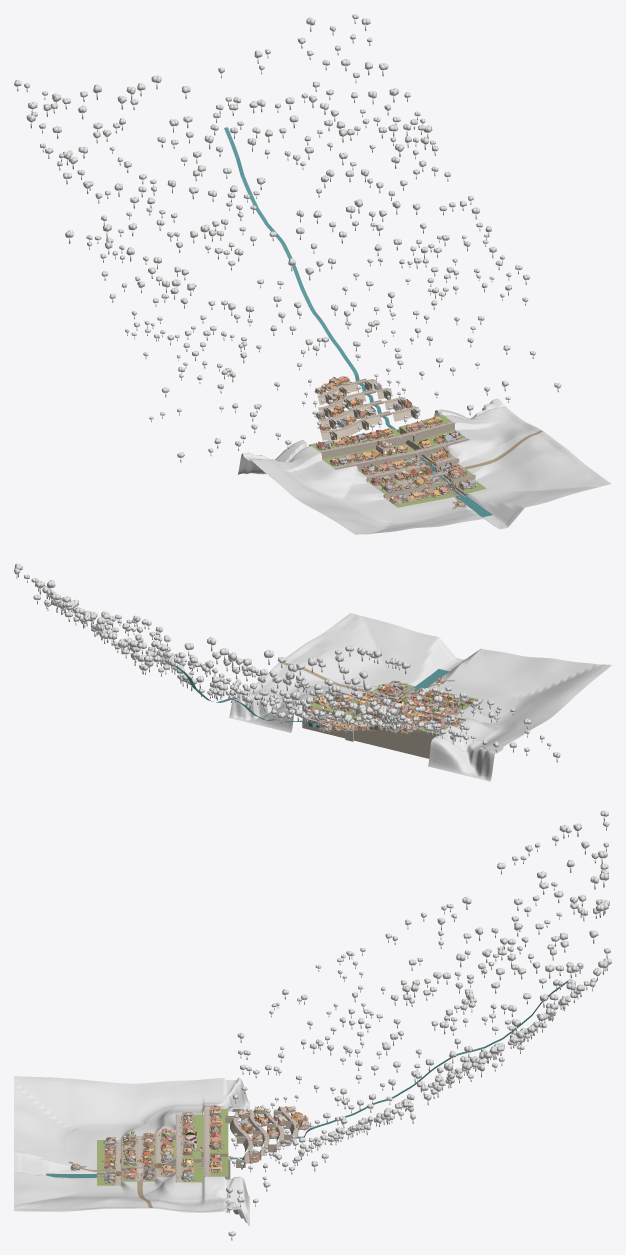
The model's file is town_collapsed.glb.
The picture shows the model from 3 angles, top to bottom: view 1: azimuth 30°, elevation 25°; view 2: azimuth 150°, elevation 25°; view 3: azimuth 270°, elevation 25°; orthographic projection. The views are drawn at different scales.
Parts seen in each view (by area): view 1: AP_Apron, HS_Stream; view 2: AP_Apron, TR_Slab2_W, TR_Slab2_E, HS_Stream; view 3: AP_Apron, TW_Ground, HS_Stream.
Boxes of the visible parts, x1,y1,x2,y2 form: AP_Apron: (238,398,611,534); HS_Stream: (224,127,395,429); AP_Apron: (229,613,611,781); TR_Slab2_W: (353,713,447,758); TR_Slab2_E: (302,697,355,738); HS_Stream: (174,665,320,727); AP_Apron: (14,1076,249,1226); TW_Ground: (97,1132,175,1185); HS_Stream: (230,981,567,1159).
Bounding box in the file's own units: 358 × 238 × 469.
